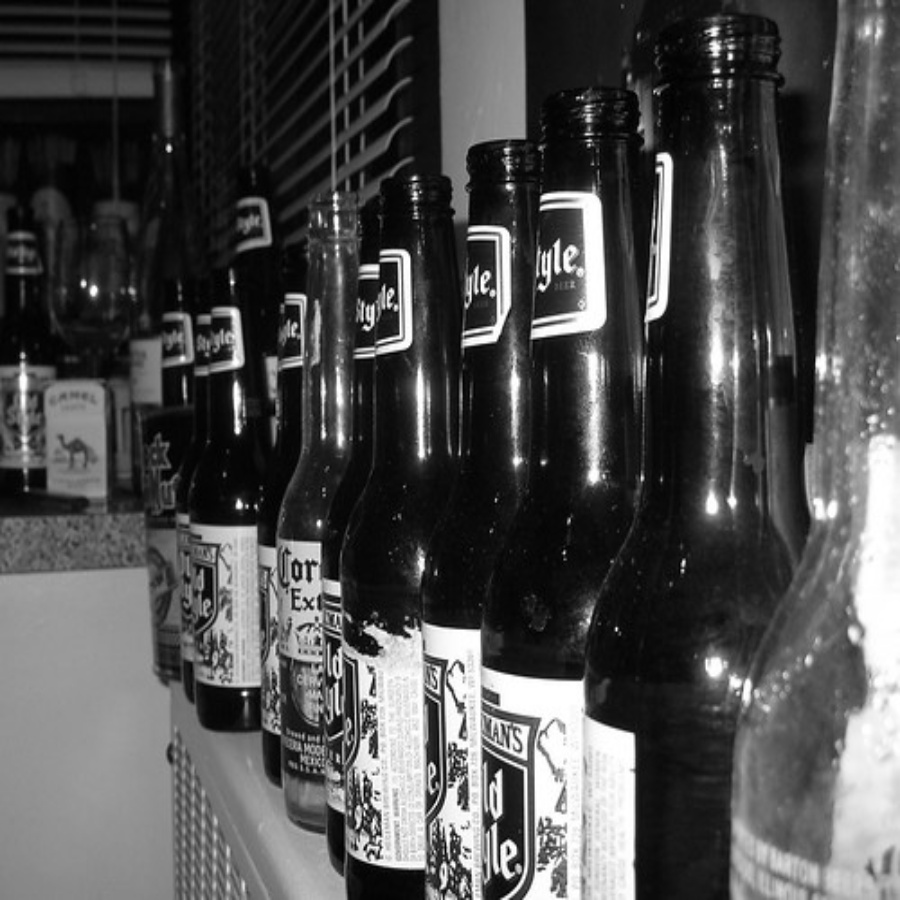beer: (582, 39, 725, 899), (330, 173, 434, 898), (420, 136, 510, 896), (176, 237, 265, 728)
